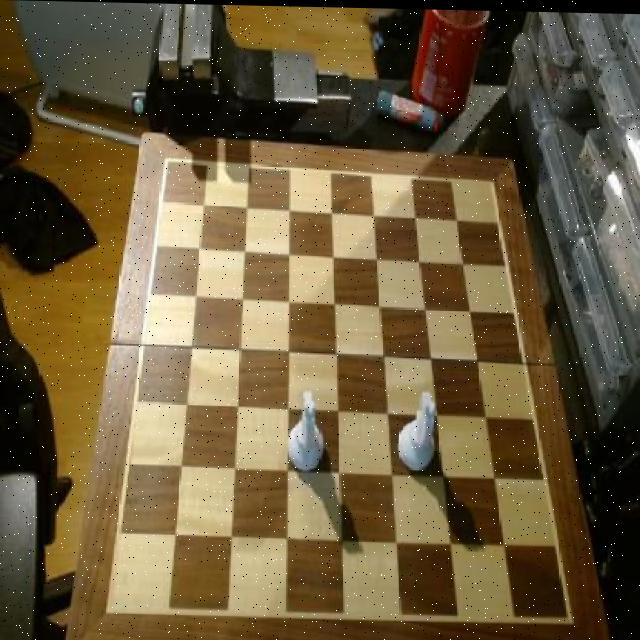white-king: (394, 385, 441, 471), (285, 388, 328, 474)
